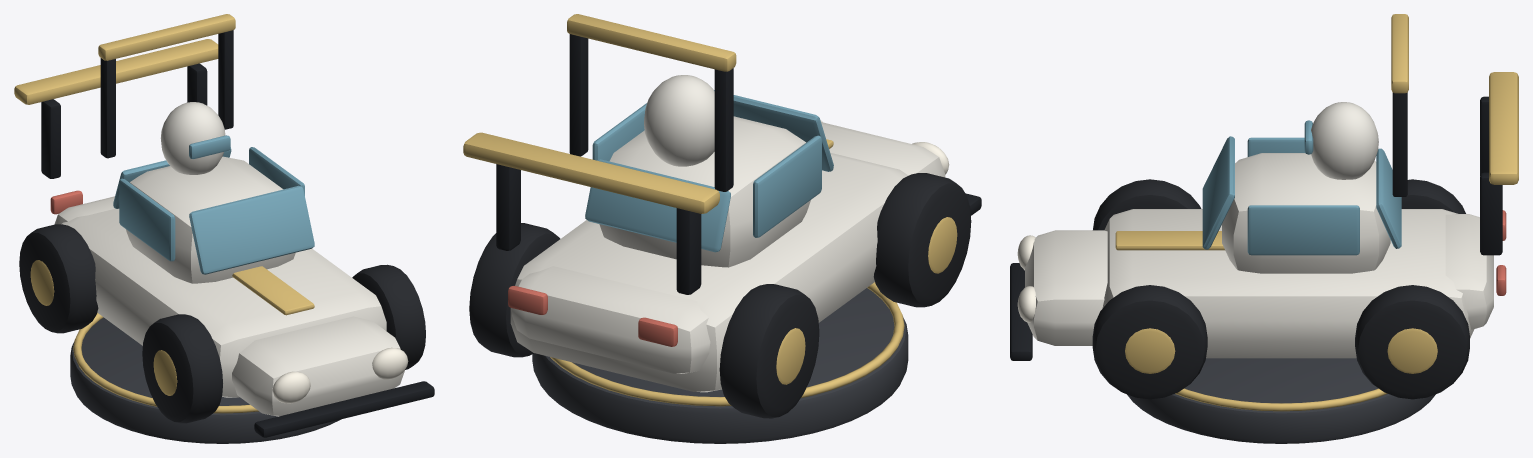
Rendered from race_car.glb.
3 renders of one model, left to right at view 1: azimuth 30°, elevation 25°; view 2: azimuth 150°, elevation 25°; view 3: azimuth 270°, elevation 25°, orthographic. The views are drawn at different scales.
Parts seen in each view (by area): view 1: TOKEN_DETAILS, TOKEN_BODY, TOKEN_BASE; view 2: TOKEN_DETAILS, TOKEN_BODY, TOKEN_BASE; view 3: TOKEN_BODY, TOKEN_DETAILS, TOKEN_BASE.
Part boxes in pixels (bbox=[...]): TOKEN_DETAILS: bbox=[14, 14, 434, 437]; TOKEN_BODY: bbox=[54, 102, 404, 416]; TOKEN_BASE: bbox=[70, 317, 340, 443]; TOKEN_DETAILS: bbox=[463, 14, 981, 418]; TOKEN_BODY: bbox=[510, 75, 945, 392]; TOKEN_BASE: bbox=[532, 288, 908, 443]; TOKEN_BODY: bbox=[1025, 102, 1493, 358]; TOKEN_DETAILS: bbox=[1010, 14, 1518, 411]; TOKEN_BASE: bbox=[1127, 358, 1435, 443].
Bounding box in the file's own units: 0.26 × 0.292 × 0.407.
